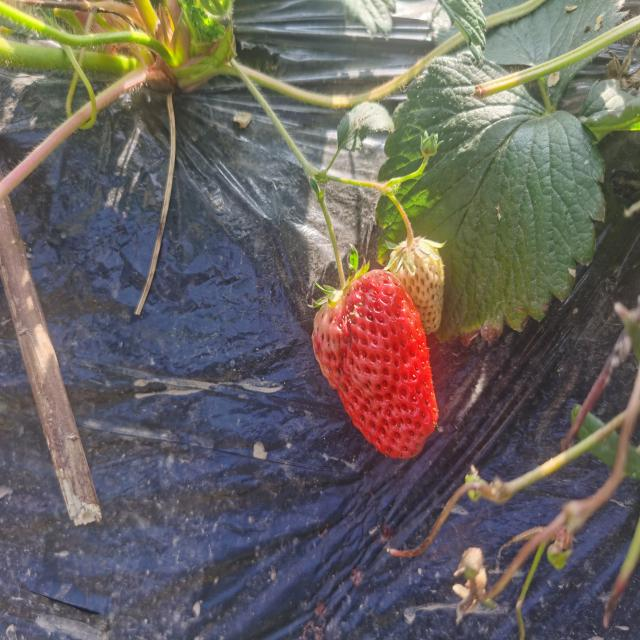stem: (328, 224, 346, 291)
strawberry: (311, 269, 439, 459)
